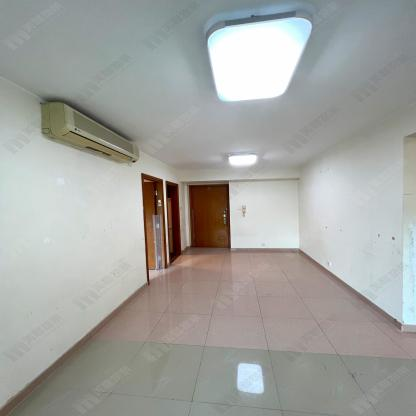AC: (40, 101, 140, 164)
